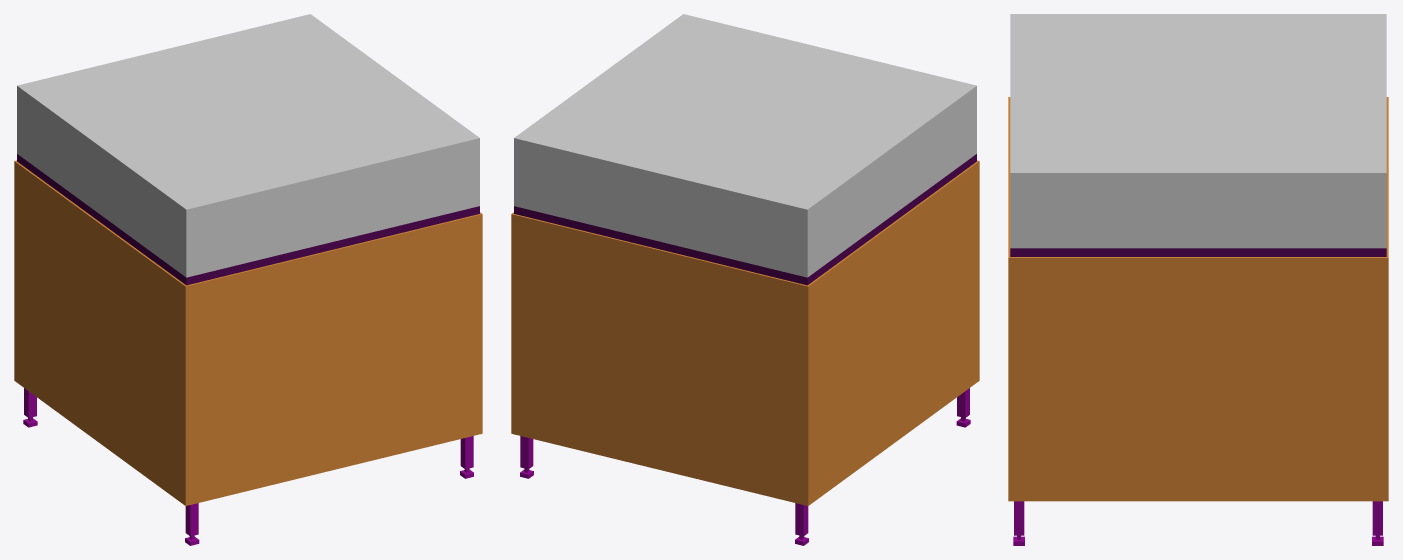
File: uam_mock_up.fbx
The picture shows the model from 3 angles, left to right: view 1: azimuth 30°, elevation 25°; view 2: azimuth 150°, elevation 25°; view 3: azimuth 270°, elevation 25°; orthographic projection. The views are drawn at different scales.
Parts seen in each view (by area): view 1: mock_up, crystal; view 2: mock_up, crystal; view 3: mock_up, crystal.
Part boxes in pixels (x1,y1,x2,y2): mock_up: [14, 154, 482, 545]; crystal: [17, 14, 479, 277]; mock_up: [511, 154, 979, 545]; crystal: [514, 14, 976, 277]; mock_up: [1008, 97, 1388, 545]; crystal: [1010, 14, 1386, 248].
Bounding box in the file's own units: 110 × 120 × 110.
